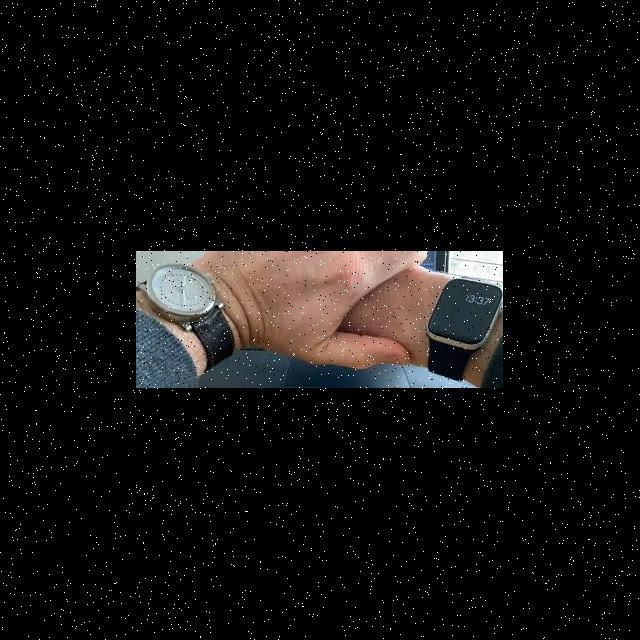watch: (415, 250, 535, 390), (144, 257, 248, 365)
